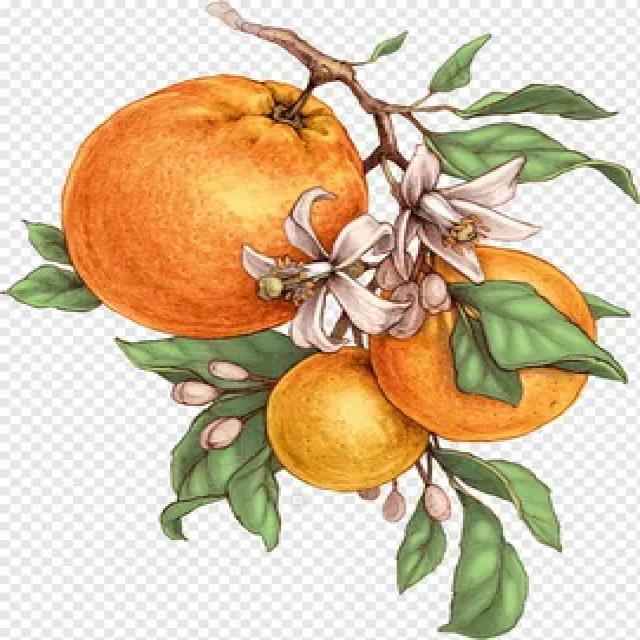orange: (49, 58, 392, 353)
